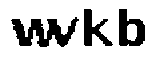b: (115, 6, 148, 51)
k: (80, 7, 114, 50)
v: (50, 16, 78, 49)
w: (9, 17, 54, 51)
